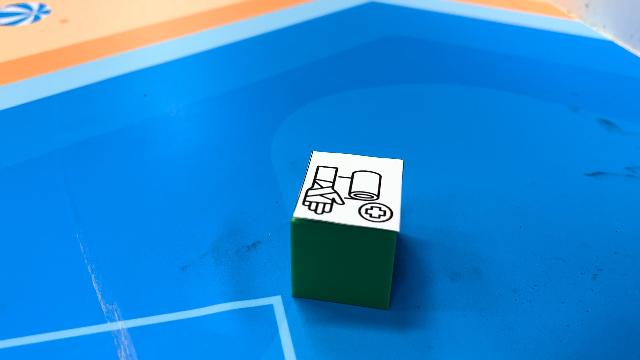bandage: (290, 150, 404, 310)
